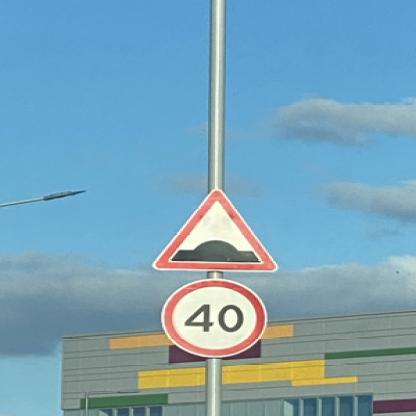Speed Limit 40: (164, 278, 268, 358)
